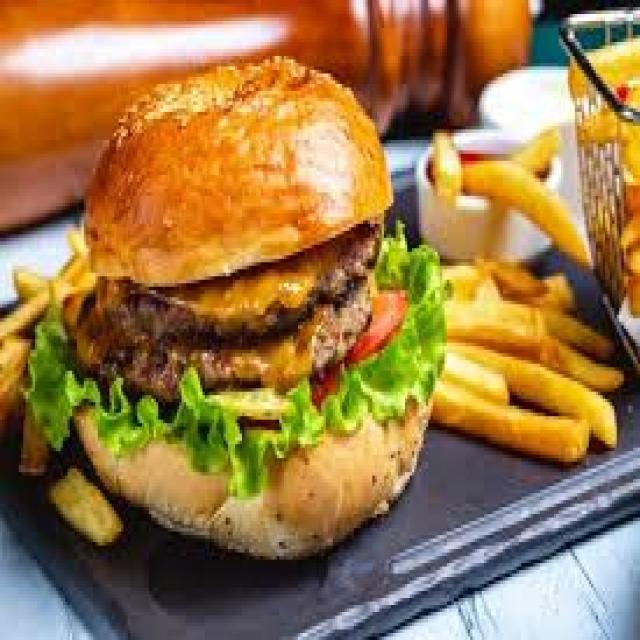Wet Waste: (88, 12, 432, 546)
